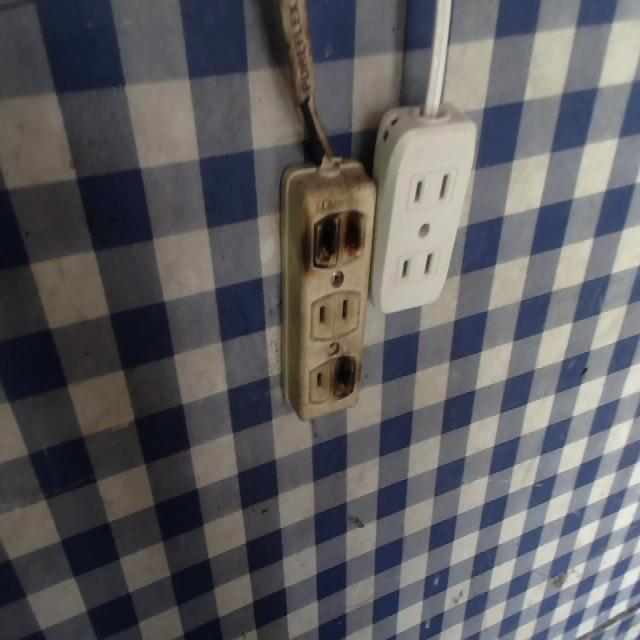-: (308, 207, 374, 268), (329, 352, 358, 408)
